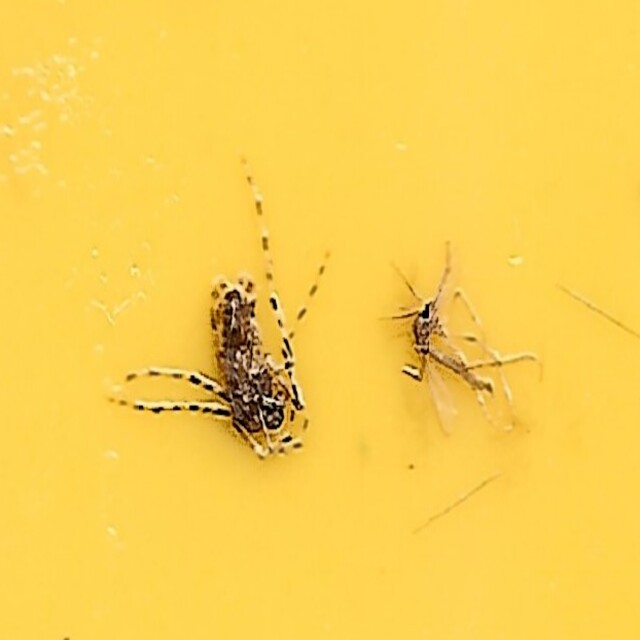Nematocera: (103, 158, 333, 482), (387, 282, 537, 444)
